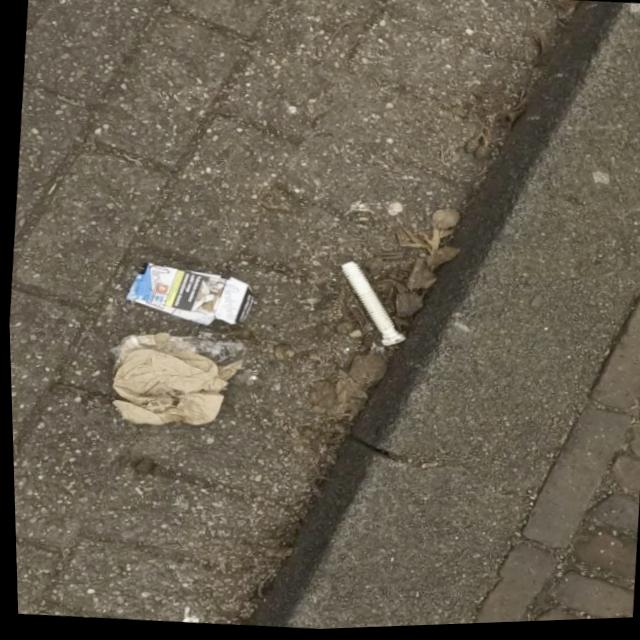Paper: (99, 321, 251, 435), (117, 257, 254, 334)
